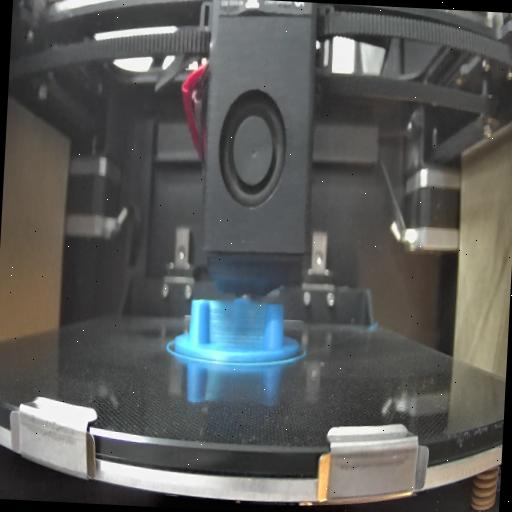stringing: (208, 298, 267, 348)
